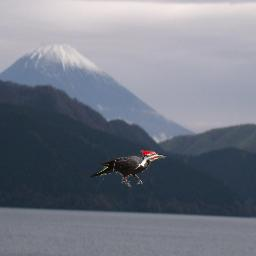Woodpecker: (90, 150, 167, 187)
